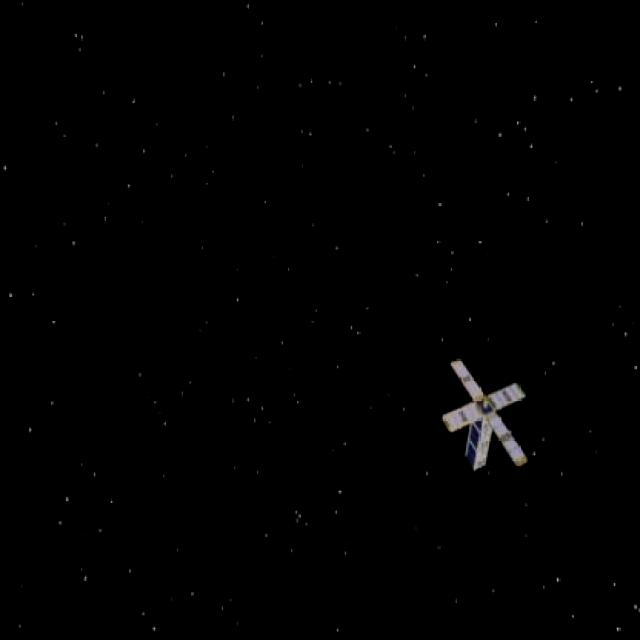satellite: (433, 356, 540, 494)
